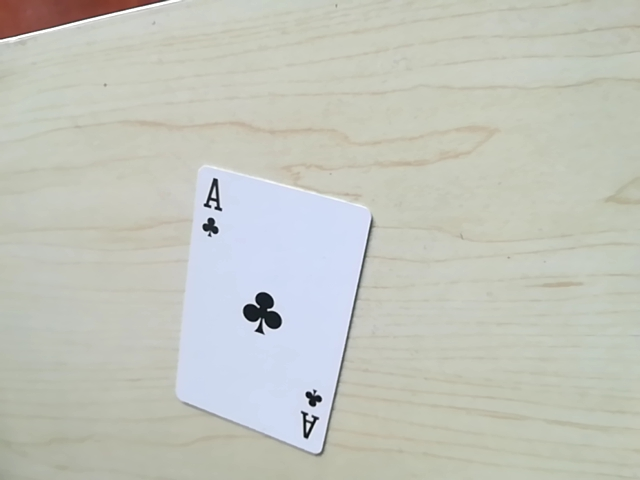mh a: (192, 169, 230, 252), (292, 378, 329, 455)
